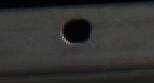holes: (61, 16, 94, 46)
